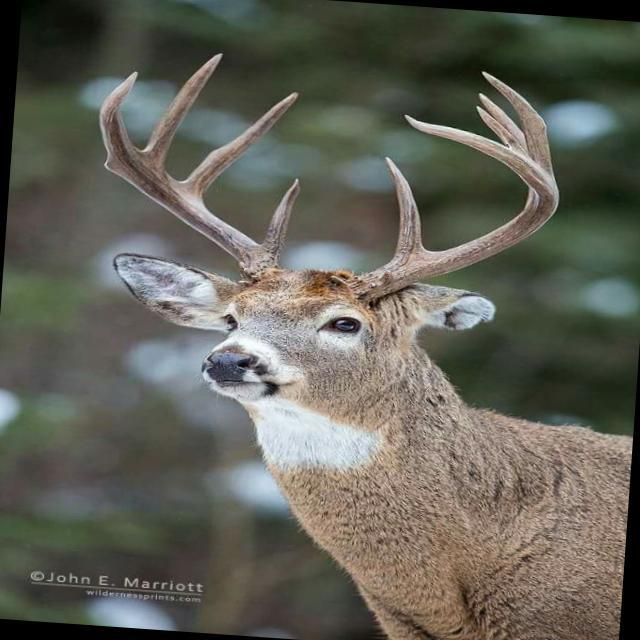L-F: (347, 114, 559, 300)
L-G1: (384, 156, 429, 260)
R-F: (98, 71, 282, 283)
R-G1: (260, 177, 300, 262)
R-G2: (178, 91, 299, 200)
R-G3: (141, 52, 223, 167)
